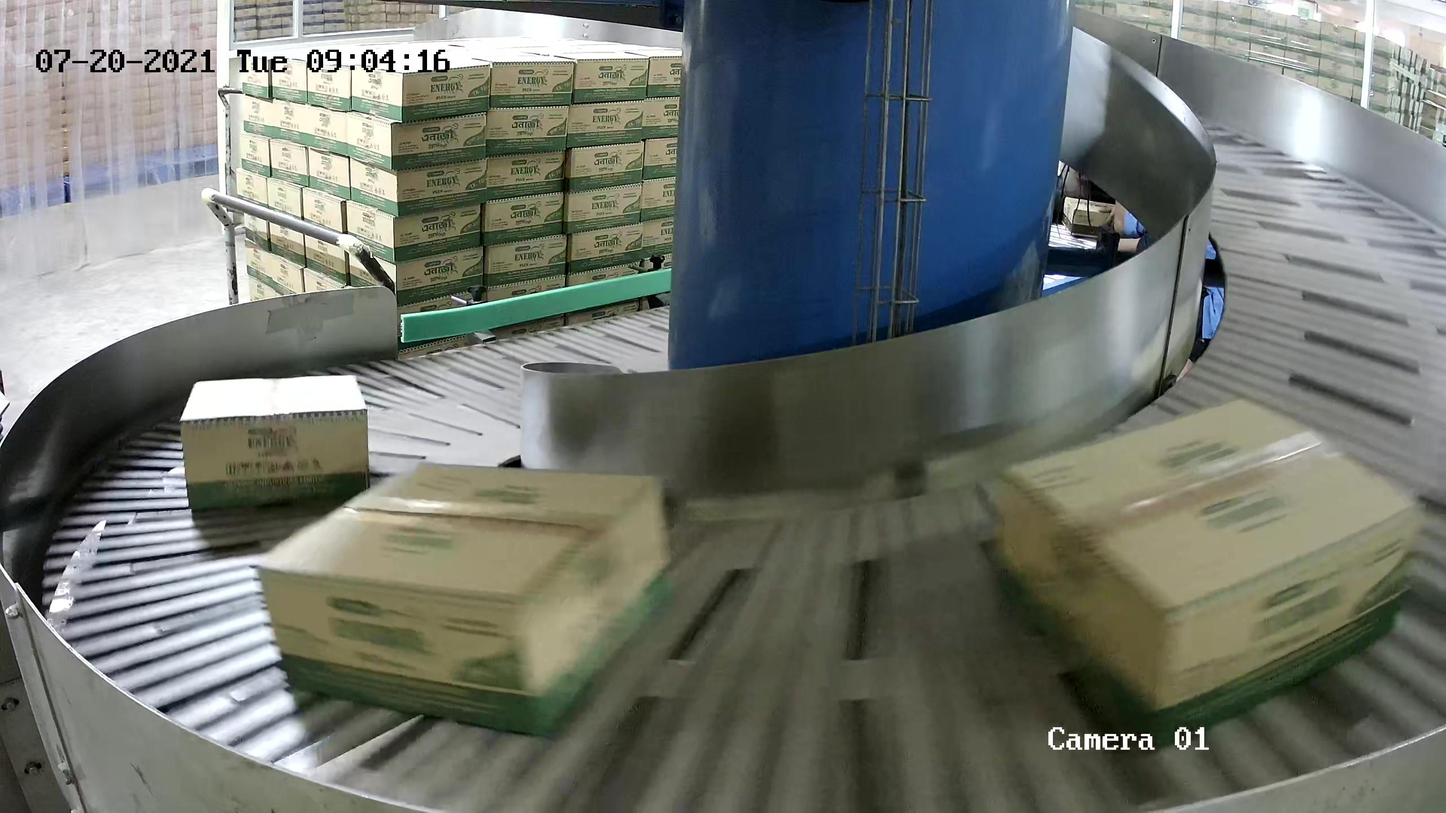Box: (989, 394, 1431, 750), (251, 457, 677, 741), (177, 373, 370, 511)
